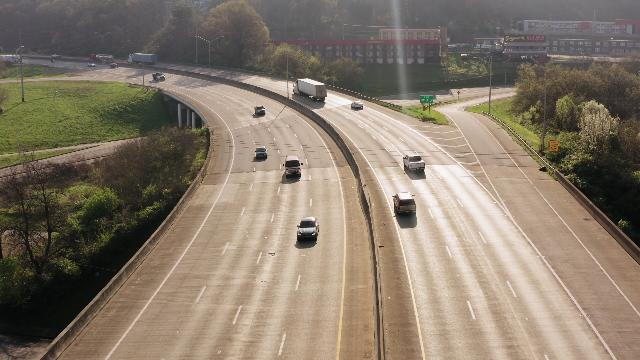car: (392, 191, 419, 219), (296, 216, 323, 243), (253, 147, 270, 163), (350, 98, 364, 112), (253, 104, 266, 118), (86, 62, 96, 67), (110, 63, 118, 68)
motorcycle: (50, 59, 55, 63)
pickup-truck: (401, 152, 428, 175), (151, 72, 166, 80), (51, 53, 62, 58)
truck: (291, 76, 328, 103), (127, 52, 158, 65), (89, 53, 115, 63)
van: (283, 154, 303, 178)
